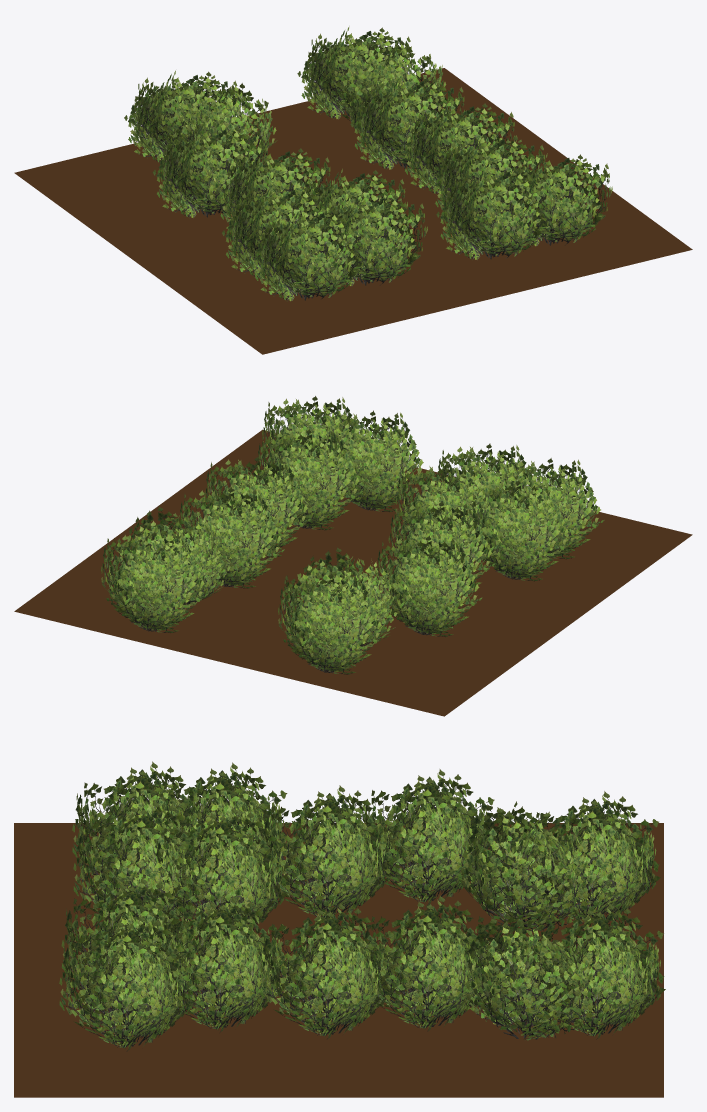
3 renders of one model, top to bottom at view 1: azimuth 30°, elevation 25°; view 2: azimuth 150°, elevation 25°; view 3: azimuth 270°, elevation 25°, orthographic. The views are drawn at different scales.
Parts seen in each view (by area): view 1: Plane, bush_Buisson_02_Atlas_Buisson_02_Atlas_0.014, bush_Buisson_02_Atlas_Buisson_02_Atlas_0.013, bush_Buisson_02_Atlas_Buisson_02_Atlas_0.004, bush_Buisson_02_Atlas_Buisson_02_Atlas_0.001, bush_Buisson_02_Atlas_Buisson_02_Atlas_0.010, bush_Buisson_02_Atlas_Buisson_02_Atlas_0.007, bush_Buisson_02_Atlas_Buisson_02_Atlas_0.008, bush_Buisson_02_Atlas_Buisson_02_Atlas_0.012, bush_Buisson_02_Atlas_Buisson_02_Atlas_0.009, bush_Buisson_02_Atlas_Buisson_02_Atlas_0.003, bush_Buisson_02_Atlas_Buisson_02_Atlas_0.005 (+4 smaller); view 2: Plane, bush_Buisson_02_Atlas_Buisson_02_Atlas_0.009, bush_Buisson_02_Atlas_Buisson_02_Atlas_0.012, bush_Buisson_02_Atlas_Buisson_02_Atlas_0.004, bush_Buisson_02_Atlas_Buisson_02_Atlas_0.003, bush_Buisson_02_Atlas_Buisson_02_Atlas_0.013, bush_Buisson_02_Atlas_Buisson_02_Atlas_0.007, bush_Buisson_02_Atlas_Buisson_02_Atlas_0.006, bush_Buisson_02_Atlas_Buisson_02_Atlas_0.008, bush_Buisson_02_Atlas_Buisson_02_Atlas_0.014, bush_Buisson_02_Atlas_Buisson_02_Atlas_0.005, bush_Buisson_02_Atlas_Buisson_02_Atlas_0.002 (+4 smaller); view 3: Plane, bush_Buisson_02_Atlas_Buisson_02_Atlas_0.001, bush_Buisson_02_Atlas_Buisson_02_Atlas_0.008, bush_Buisson_02_Atlas_Buisson_02_Atlas_0.005, bush_Buisson_02_Atlas_Buisson_02_Atlas_0, bush_Buisson_02_Atlas_Buisson_02_Atlas_0.002, bush_Buisson_02_Atlas_Buisson_02_Atlas_0.012, bush_Buisson_02_Atlas_Buisson_02_Atlas_0.007, bush_Buisson_02_Atlas_Buisson_02_Atlas_0.006, bush_Buisson_02_Atlas_Buisson_02_Atlas_0.004, bush_Buisson_02_Atlas_Buisson_02_Atlas_0.009, bush_Buisson_02_Atlas_Buisson_02_Atlas_0.011 (+4 smaller).
Boxes of the visible parts, x1,y1,x2,y2 form: Plane: (14, 68, 692, 354); bush_Buisson_02_Atlas_Buisson_02_Atlas_0.014: (250, 208, 367, 301); bush_Buisson_02_Atlas_Buisson_02_Atlas_0.013: (436, 167, 553, 259); bush_Buisson_02_Atlas_Buisson_02_Atlas_0.004: (152, 125, 269, 217); bush_Buisson_02_Atlas_Buisson_02_Atlas_0.001: (508, 153, 612, 246); bush_Buisson_02_Atlas_Buisson_02_Atlas_0.010: (322, 192, 427, 285); bush_Buisson_02_Atlas_Buisson_02_Atlas_0.007: (350, 76, 466, 169); bush_Buisson_02_Atlas_Buisson_02_Atlas_0.008: (400, 102, 517, 194); bush_Buisson_02_Atlas_Buisson_02_Atlas_0.012: (297, 26, 413, 119); bush_Buisson_02_Atlas_Buisson_02_Atlas_0.009: (124, 70, 240, 162); bush_Buisson_02_Atlas_Buisson_02_Atlas_0.003: (221, 185, 335, 277); bush_Buisson_02_Atlas_Buisson_02_Atlas_0.005: (216, 146, 332, 229); Plane: (14, 429, 692, 716); bush_Buisson_02_Atlas_Buisson_02_Atlas_0.009: (278, 573, 385, 674); bush_Buisson_02_Atlas_Buisson_02_Atlas_0.012: (101, 532, 208, 632); bush_Buisson_02_Atlas_Buisson_02_Atlas_0.004: (376, 535, 482, 637); bush_Buisson_02_Atlas_Buisson_02_Atlas_0.003: (468, 480, 572, 581); bush_Buisson_02_Atlas_Buisson_02_Atlas_0.013: (326, 410, 425, 511); bush_Buisson_02_Atlas_Buisson_02_Atlas_0.007: (179, 487, 284, 588); bush_Buisson_02_Atlas_Buisson_02_Atlas_0.006: (255, 429, 362, 530); bush_Buisson_02_Atlas_Buisson_02_Atlas_0.008: (204, 456, 311, 557); bush_Buisson_02_Atlas_Buisson_02_Atlas_0.014: (500, 458, 604, 559); bush_Buisson_02_Atlas_Buisson_02_Atlas_0.005: (388, 501, 495, 600); bush_Buisson_02_Atlas_Buisson_02_Atlas_0.002: (114, 506, 230, 604); Plane: (14, 823, 663, 1097); bush_Buisson_02_Atlas_Buisson_02_Atlas_0.001: (59, 914, 195, 1051); bush_Buisson_02_Atlas_Buisson_02_Atlas_0.008: (259, 903, 394, 1039); bush_Buisson_02_Atlas_Buisson_02_Atlas_0.005: (260, 785, 394, 917); bush_Buisson_02_Atlas_Buisson_02_Atlas_0: (456, 801, 590, 931); bush_Buisson_02_Atlas_Buisson_02_Atlas_0.002: (455, 911, 589, 1040); bush_Buisson_02_Atlas_Buisson_02_Atlas_0.012: (529, 903, 665, 1039); bush_Buisson_02_Atlas_Buisson_02_Atlas_0.007: (363, 895, 491, 1031); bush_Buisson_02_Atlas_Buisson_02_Atlas_0.006: (156, 896, 287, 1032); bush_Buisson_02_Atlas_Buisson_02_Atlas_0.004: (364, 769, 494, 904); bush_Buisson_02_Atlas_Buisson_02_Atlas_0.009: (524, 791, 660, 925); bush_Buisson_02_Atlas_Buisson_02_Atlas_0.011: (155, 807, 287, 936).
Bounding box in the file's own units: 12 × 2.94 × 12.54.
Materials: 16 (15 with a texture image).
